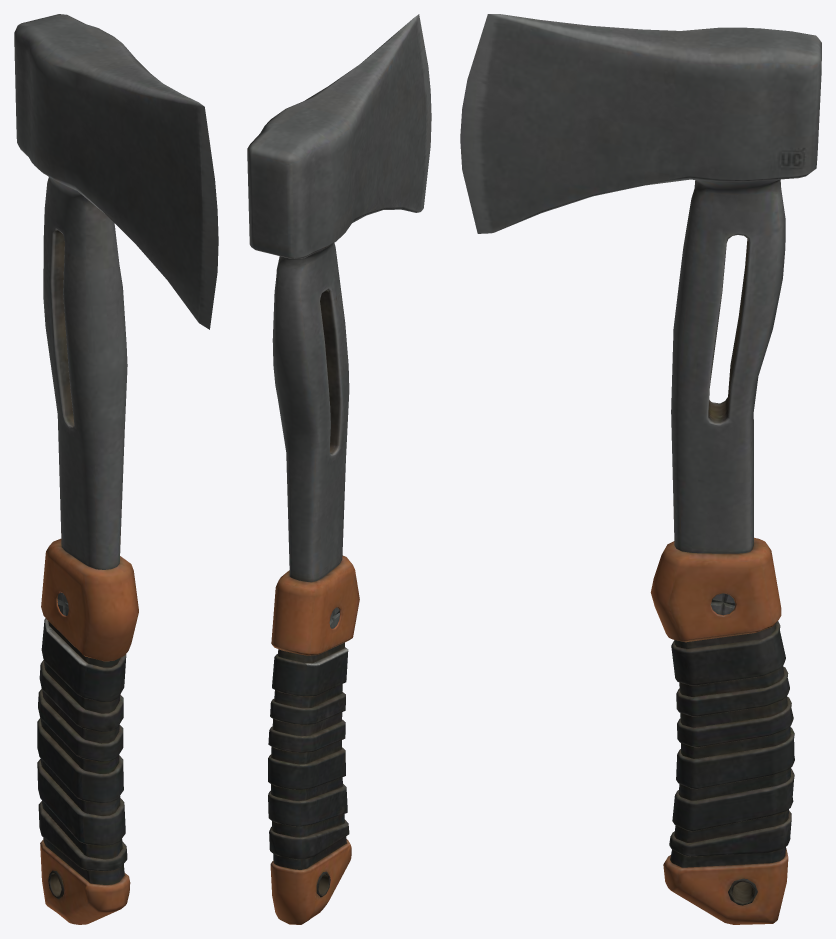
Rendered from hatchet.glb.
The picture shows the model from 3 angles, left to right: view 1: azimuth 30°, elevation 25°; view 2: azimuth 150°, elevation 25°; view 3: azimuth 270°, elevation 25°; orthographic projection. The views are drawn at different scales.
Parts seen in each view (by area): view 1: hatchet; view 2: hatchet; view 3: hatchet.
Boxes of the visible parts, x1,y1,x2,y2 form: hatchet: [14, 14, 218, 924]; hatchet: [247, 14, 431, 924]; hatchet: [460, 14, 821, 924].
Bounding box in the file's own units: 0.0258 × 0.2887 × 0.1043.
Materials: 1 (1 with a texture image).
